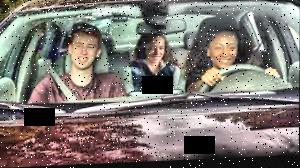seatbelt: (37, 52, 81, 105), (128, 56, 160, 93), (248, 43, 266, 66)
